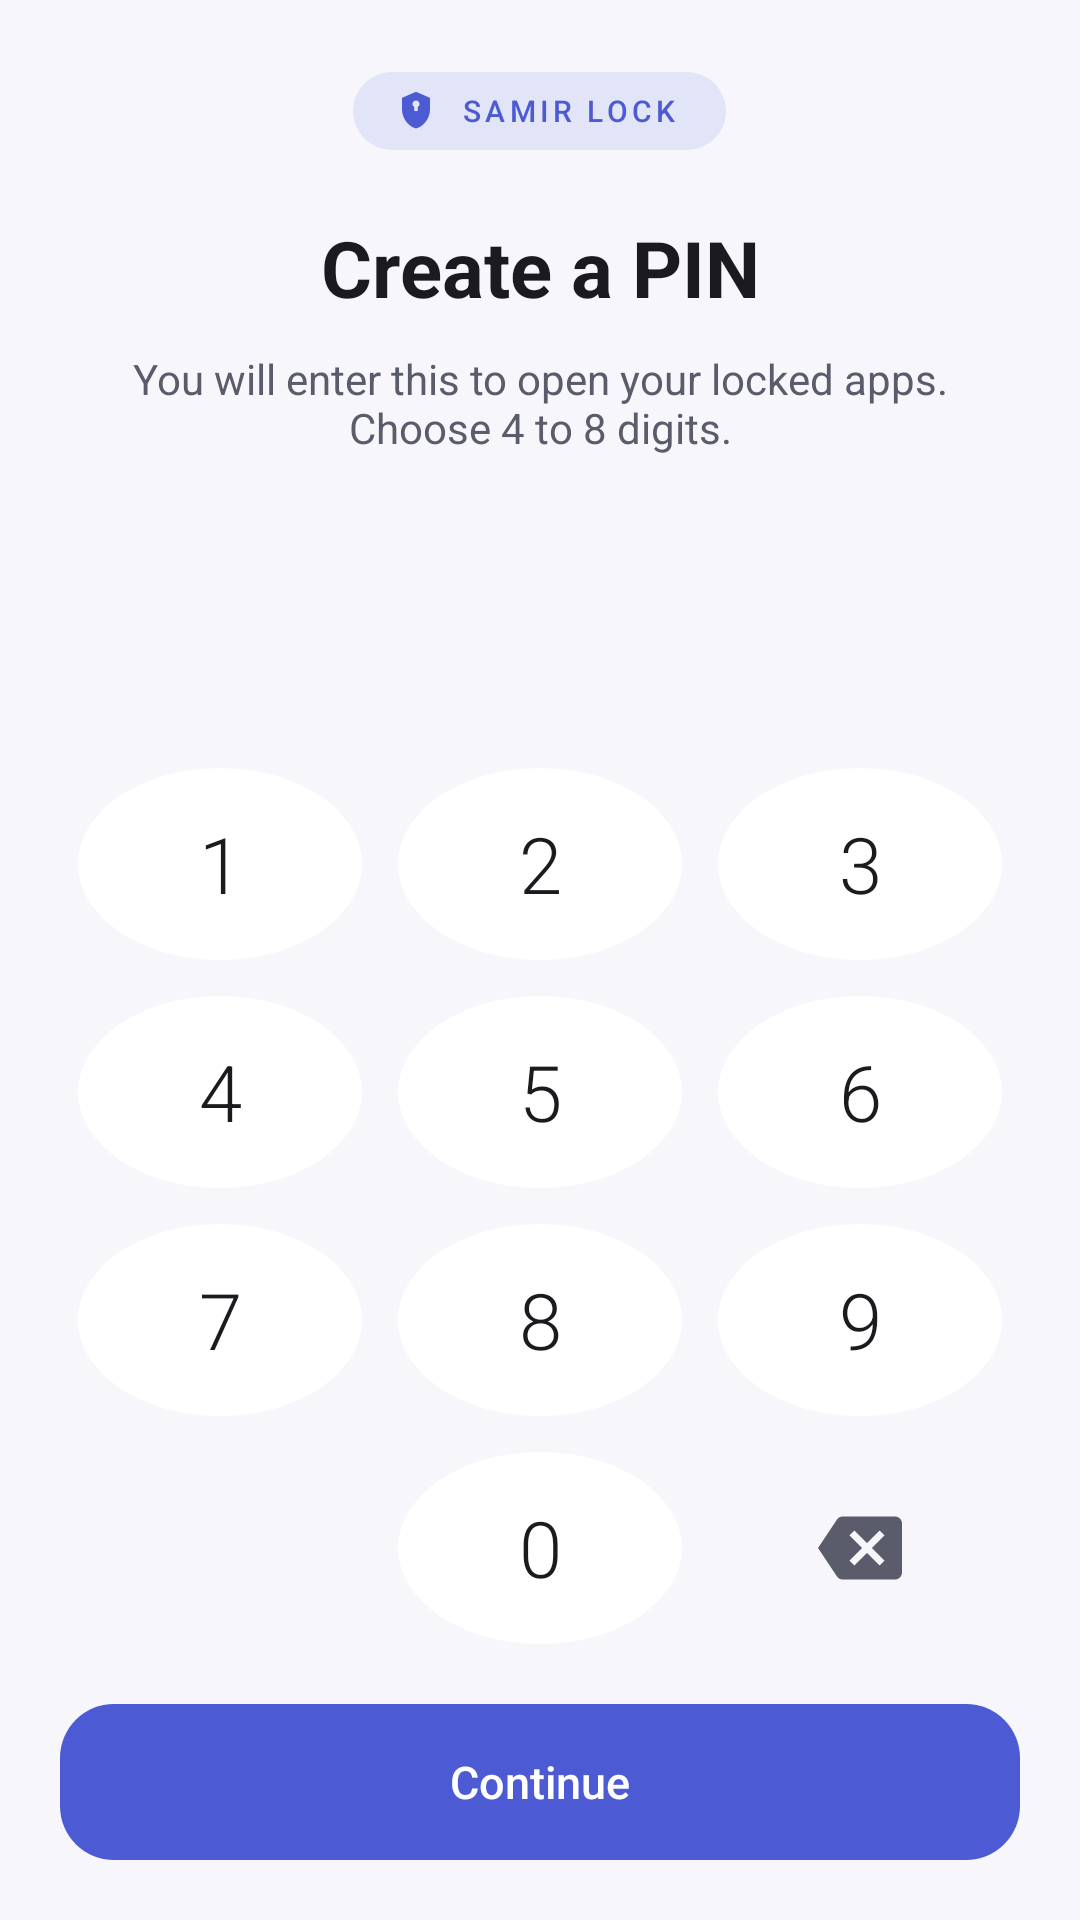

Icons on this 1080px×1920px Android screen, each with the point to tap as (x,y):
Delete last digit: (860,1548)
guard shield: (416,110)
